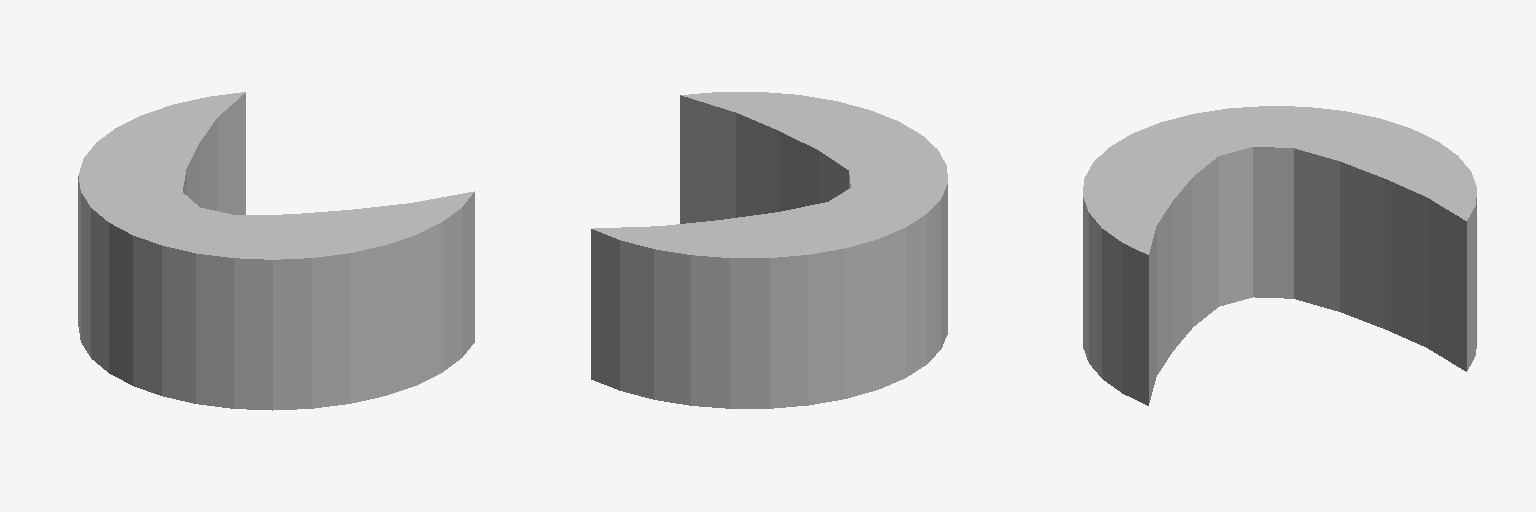
The model's file is funkyCylinder.obj.
3 views of the same model, side by side, from view 1: azimuth 30°, elevation 25°; view 2: azimuth 150°, elevation 25°; view 3: azimuth 270°, elevation 25° (orthographic).
Parts seen in each view (by area): view 1: Cylinder; view 2: Cylinder; view 3: Cylinder.
Part boxes in pixels (left/top/right/bottom): Cylinder: left=78, top=92, right=474, bottom=410; Cylinder: left=591, top=92, right=947, bottom=408; Cylinder: left=1083, top=106, right=1476, bottom=405.
Bounding box in the file's own units: 31.3 × 14.7 × 34.9.